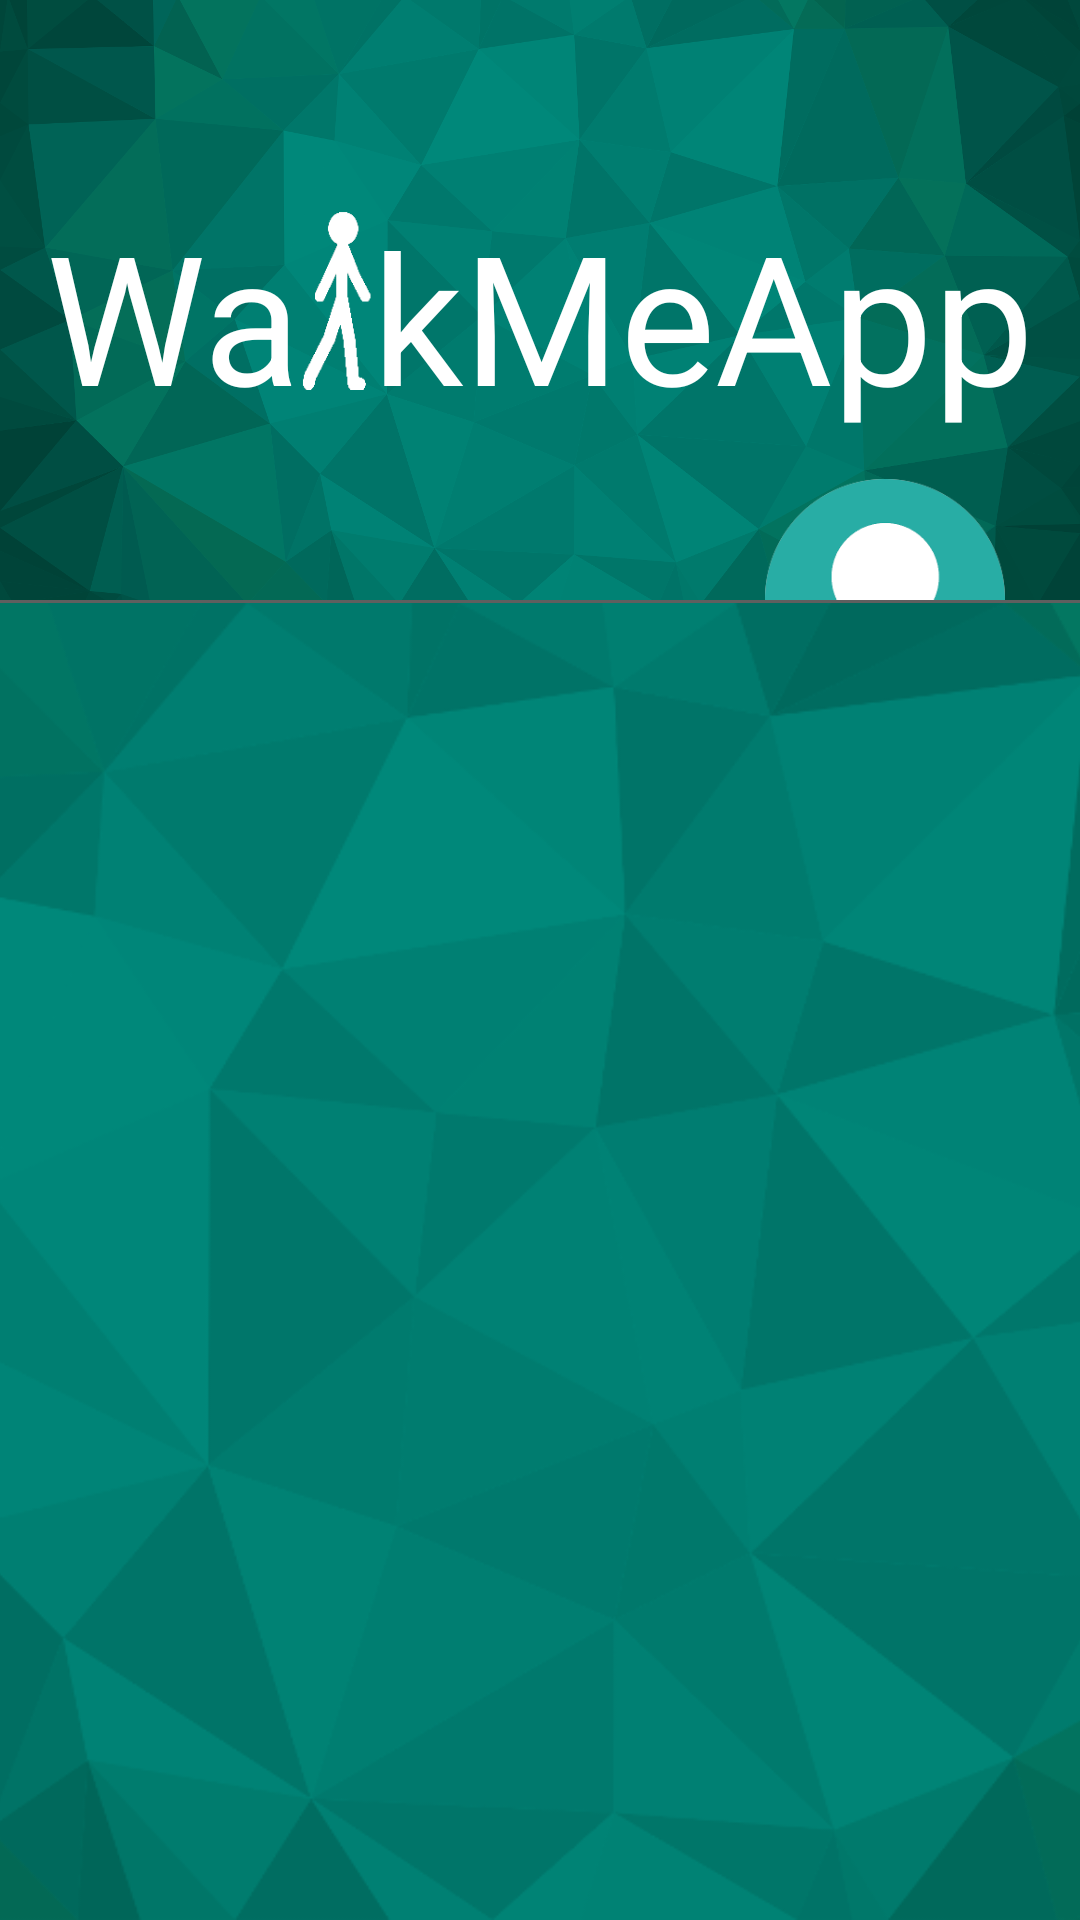

Icons on this 1080×1920 Android screen, each with its box as rect(x1, y1, x2, y2):
walking stickman: rect(303, 212, 371, 390)
